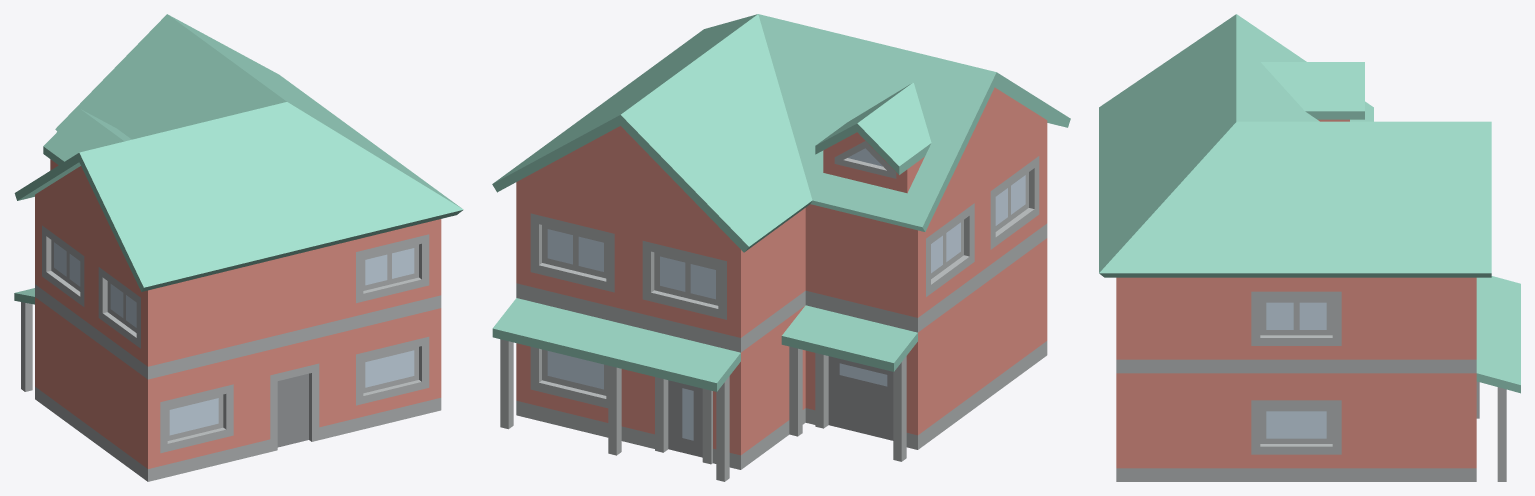
File: house-type02.glb
3 renders of one model, left to right at view 1: azimuth 30°, elevation 25°; view 2: azimuth 150°, elevation 25°; view 3: azimuth 270°, elevation 25°, orthographic. The views are drawn at different scales.
Visible parts, largest first — view 1: house_type02; view 2: house_type02; view 3: house_type02.
Boxes of the visible parts, bbox=[...] form: house_type02: bbox=[14, 14, 463, 481]; house_type02: bbox=[492, 14, 1070, 481]; house_type02: bbox=[1099, 14, 1520, 481].
Bounding box in the file's own units: 1.31 × 1.14 × 1.41.
1 material, 1 textured.
